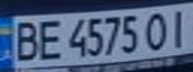4: (63, 15, 87, 58)
5: (118, 11, 145, 54), (84, 14, 106, 57)
7: (103, 14, 124, 56)
B: (9, 18, 42, 62)
E: (33, 17, 63, 61)
I: (163, 5, 193, 48)
O: (142, 9, 172, 52)
